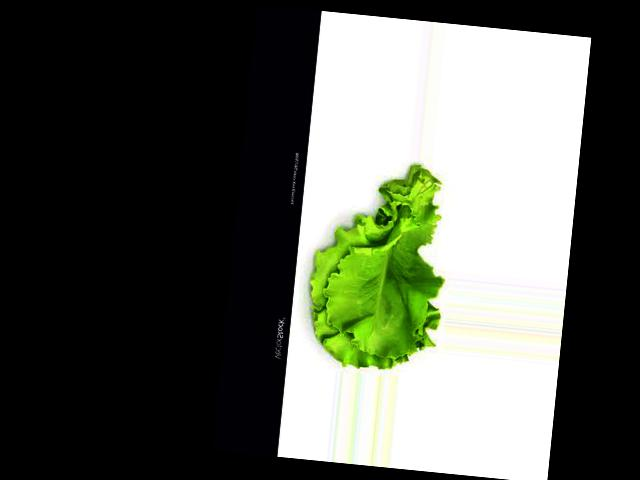lettuce: (271, 161, 444, 247)
